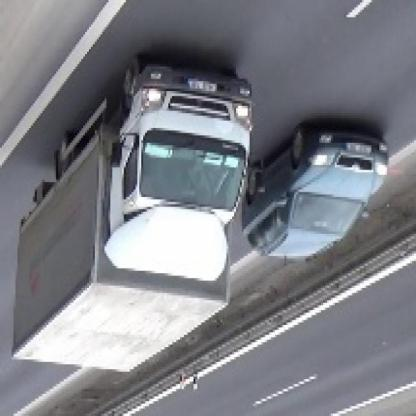truck: (13, 60, 257, 373)
